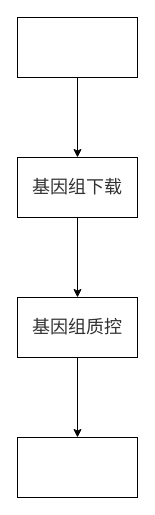
Image size: 155x515. Some labels were removed from this diagram. The box of each missing label's shape, as (x1, y1, x2, y2) in pixels:
数据库构建: (16, 436, 138, 498)
病原体整理: (16, 16, 138, 78)
